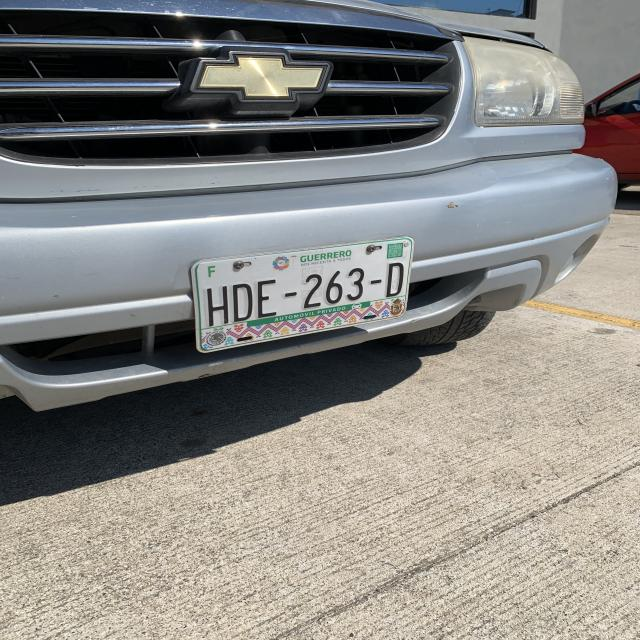placa: (192, 261, 408, 326)
